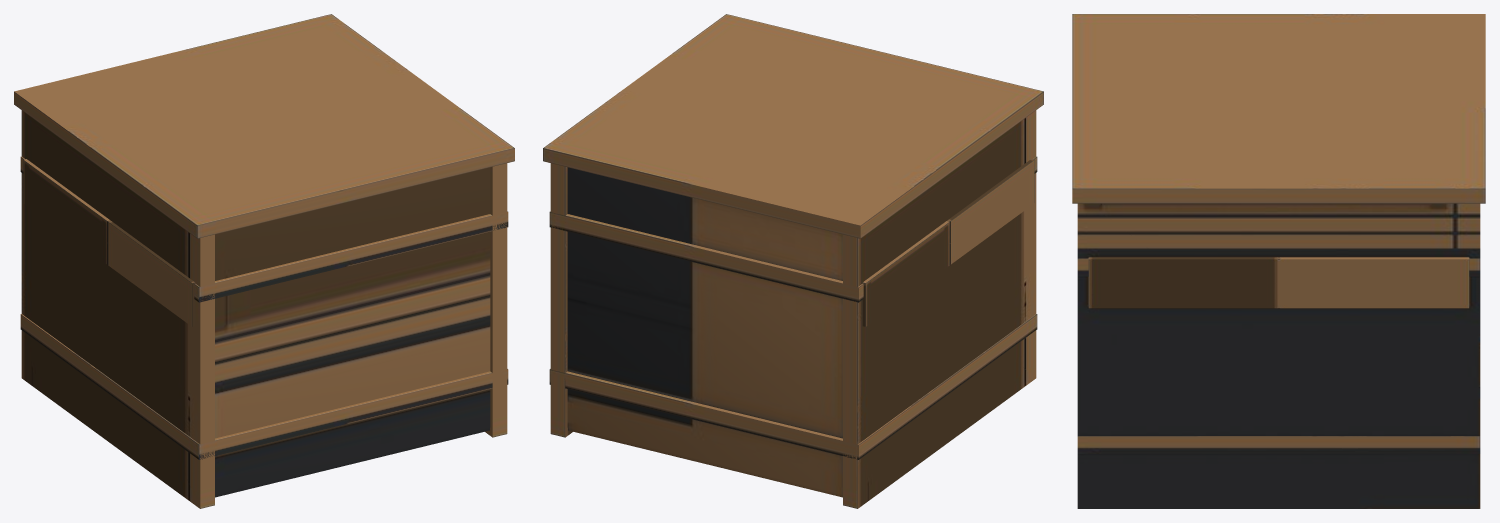
Rendered from PR_crate_wood.glb.
3 views of the same model, side by side, from view 1: azimuth 30°, elevation 25°; view 2: azimuth 150°, elevation 25°; view 3: azimuth 270°, elevation 25° (orthographic). The views are drawn at different scales.
Visible parts, largest first — view 1: PR_crate_wood; view 2: PR_crate_wood; view 3: PR_crate_wood.
Boxes of the visible parts, x1,y1,x2,y2 form: PR_crate_wood: (14, 14, 514, 508); PR_crate_wood: (543, 14, 1043, 508); PR_crate_wood: (1072, 14, 1485, 508).
Size of the model in its own units: 0.76 by 0.655 by 0.76.
1 material, 1 textured.
